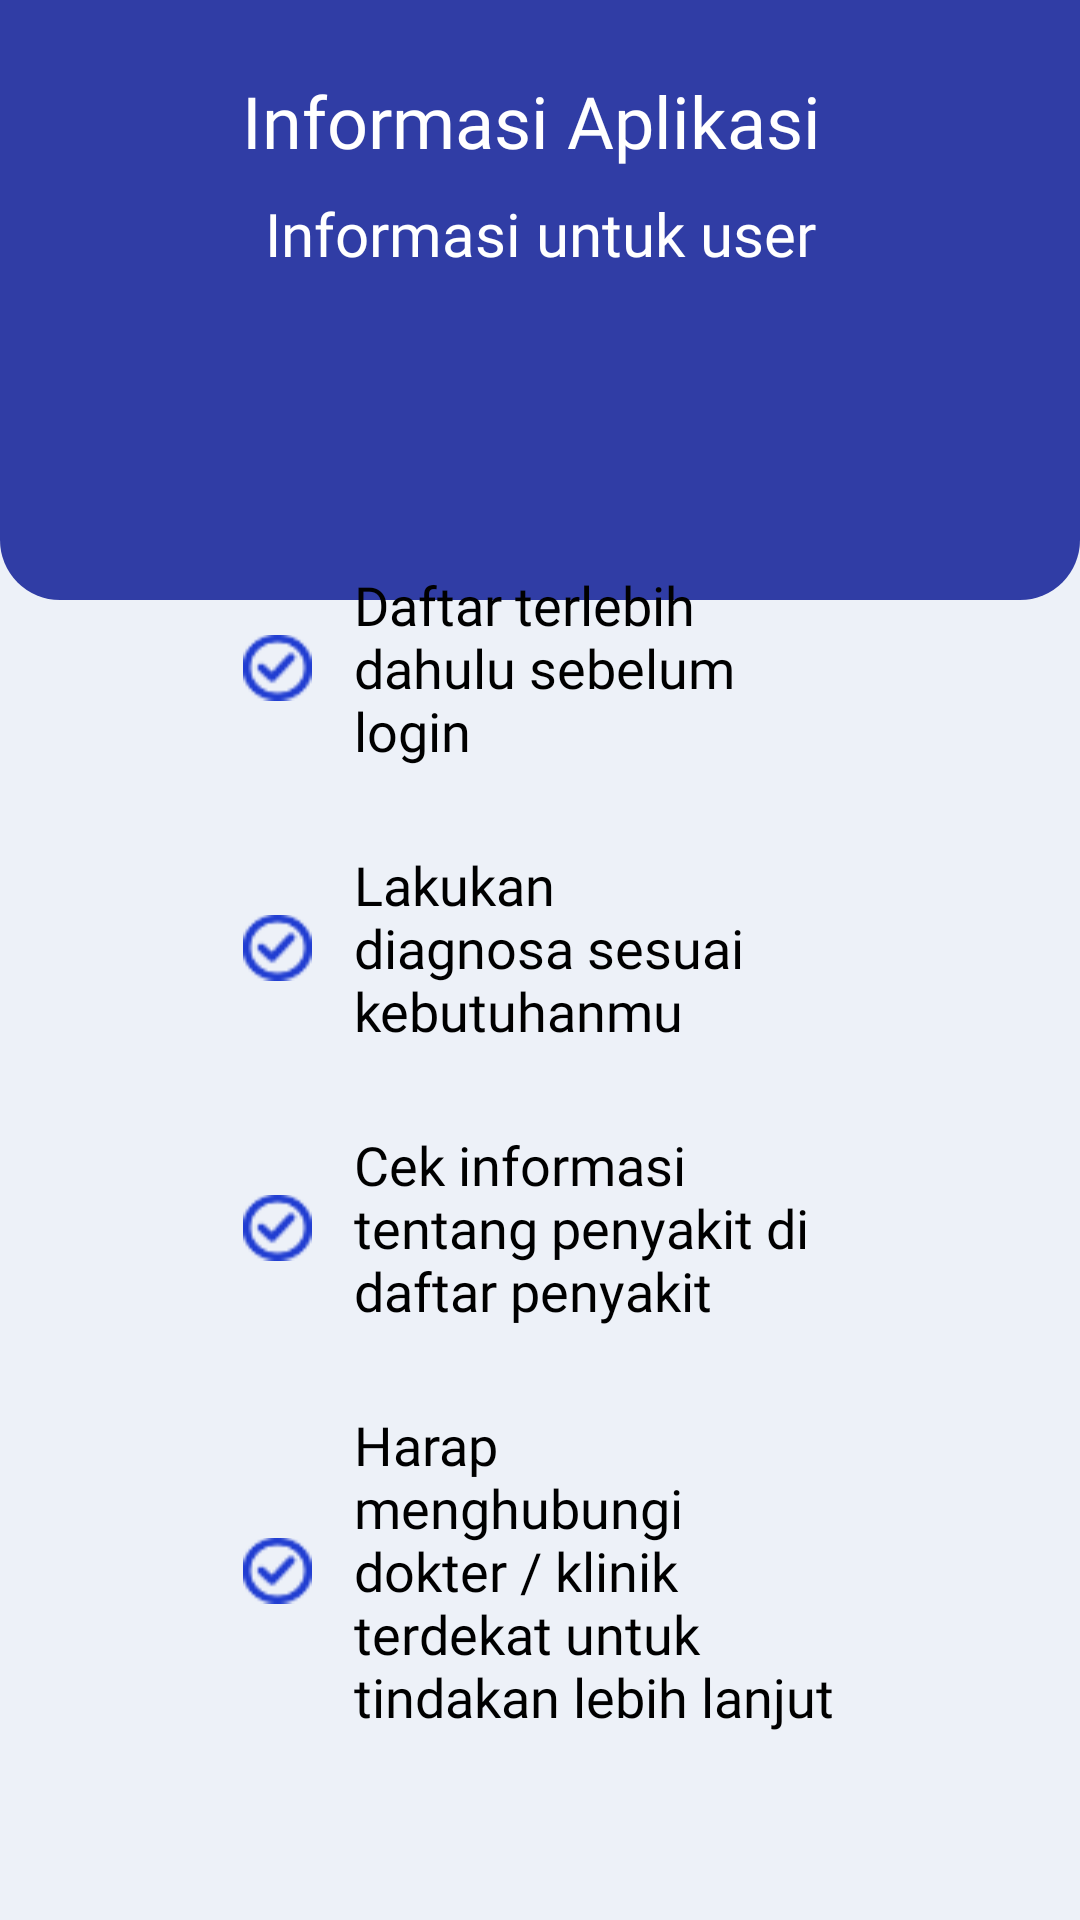

Icons on this 1080 × 1920 Android screen, each with its box as box(x1, y1, x2, y2):
done: box(243, 635, 312, 701), box(243, 915, 312, 981), box(243, 1195, 312, 1261), box(243, 1538, 312, 1604)
